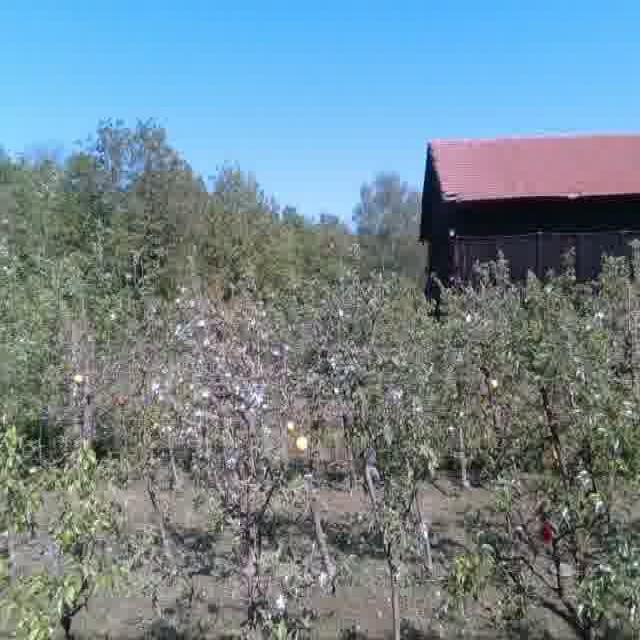red: (539, 524, 552, 542)
yellow: (296, 434, 308, 452), (72, 372, 84, 383), (287, 419, 295, 432)
